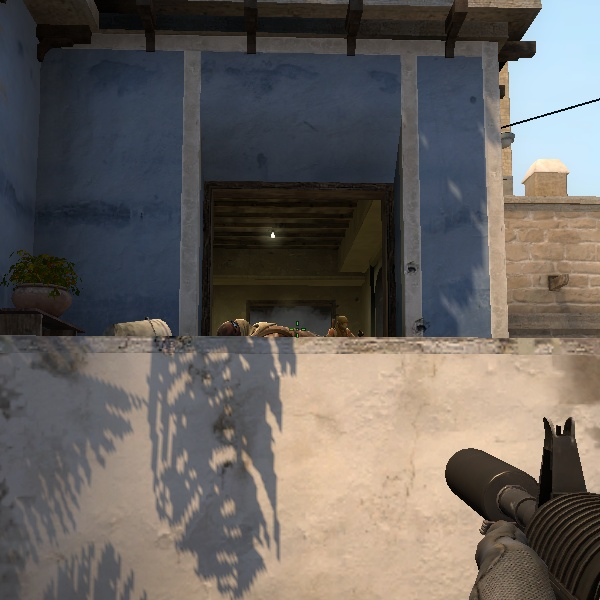t_body: (324, 310, 356, 338)
